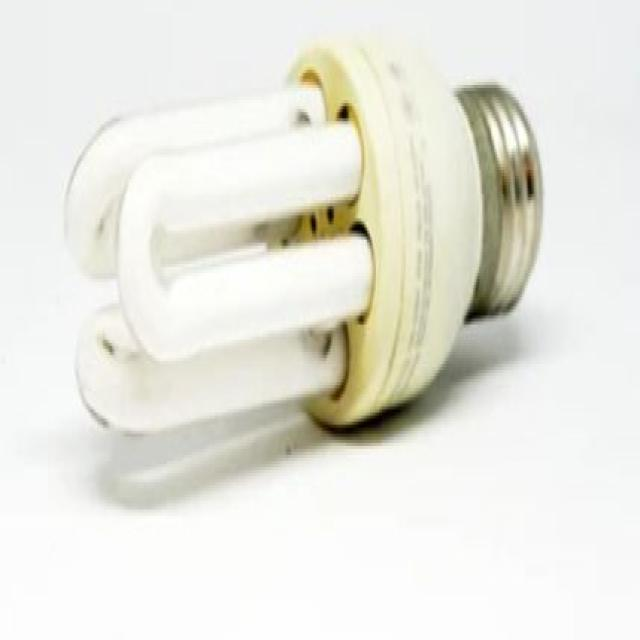electronic: (63, 27, 543, 443)
